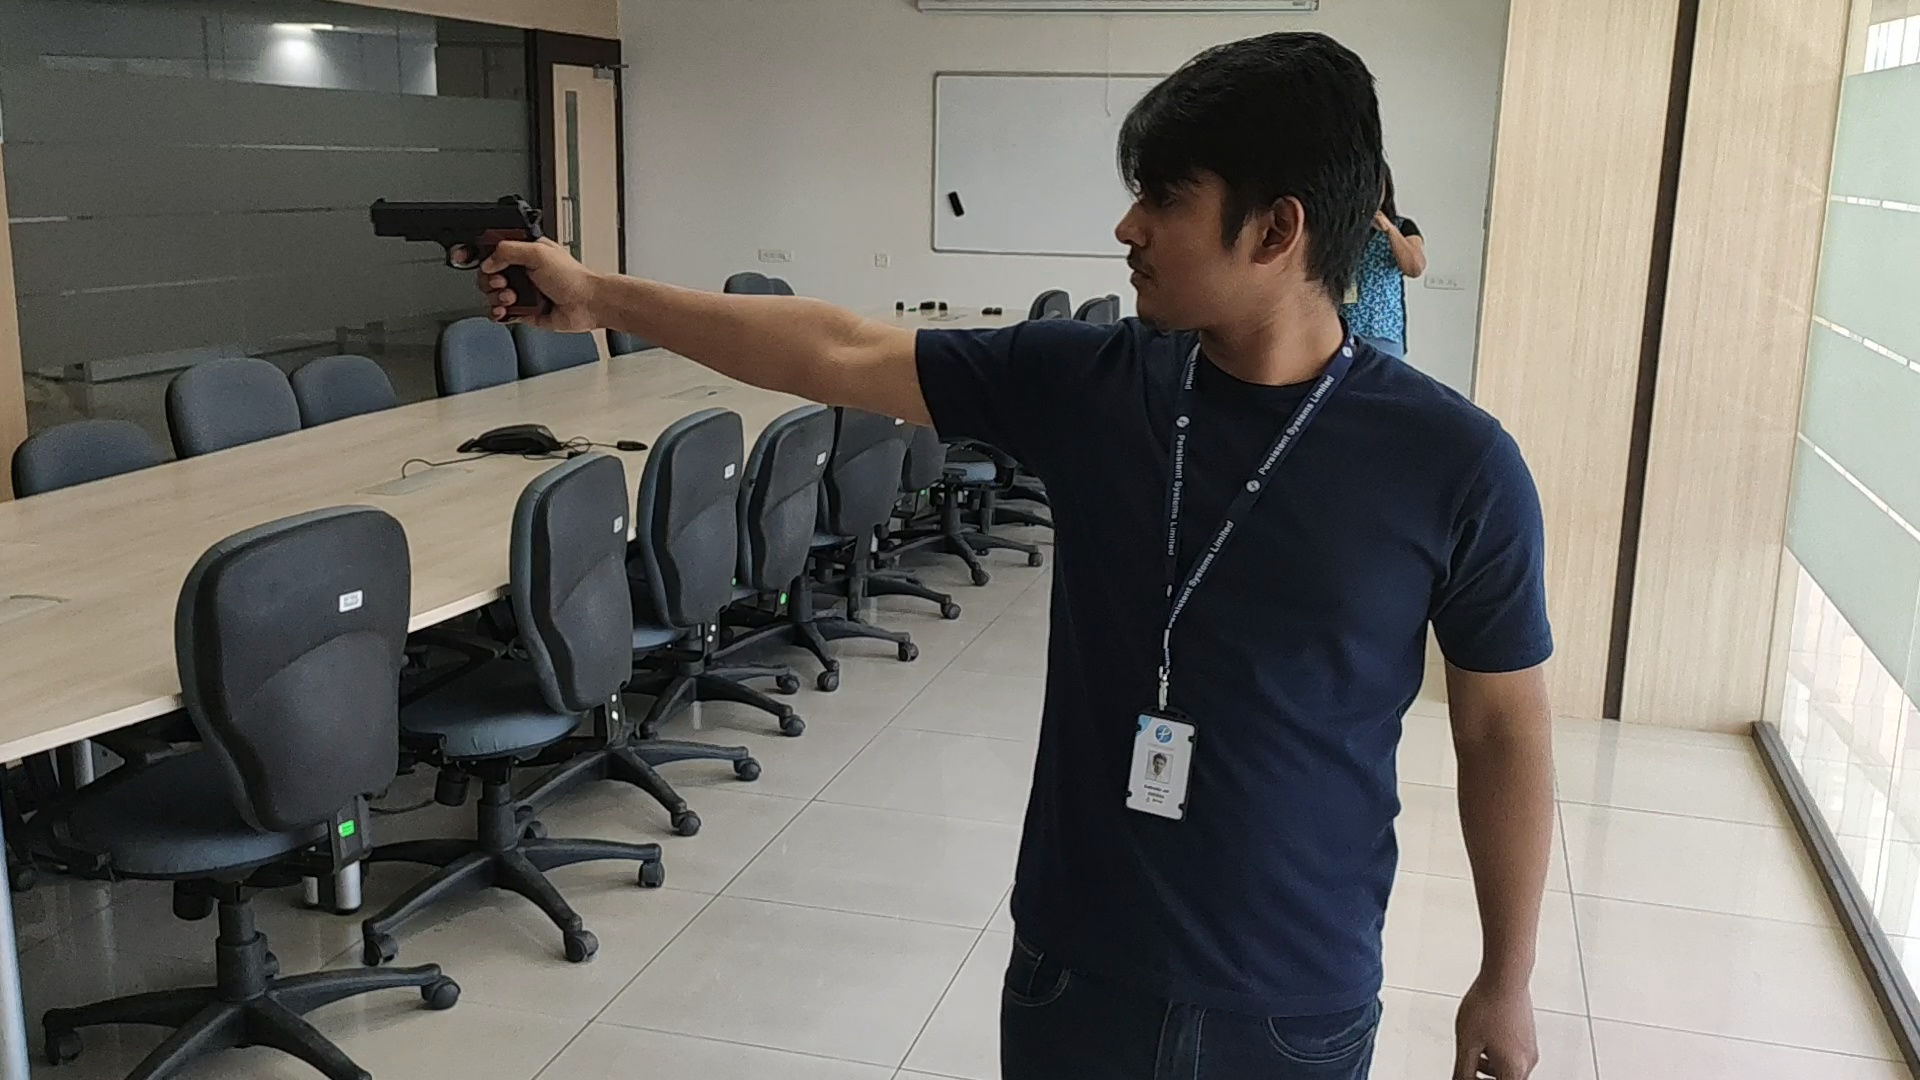gun: (371, 187, 549, 248)
